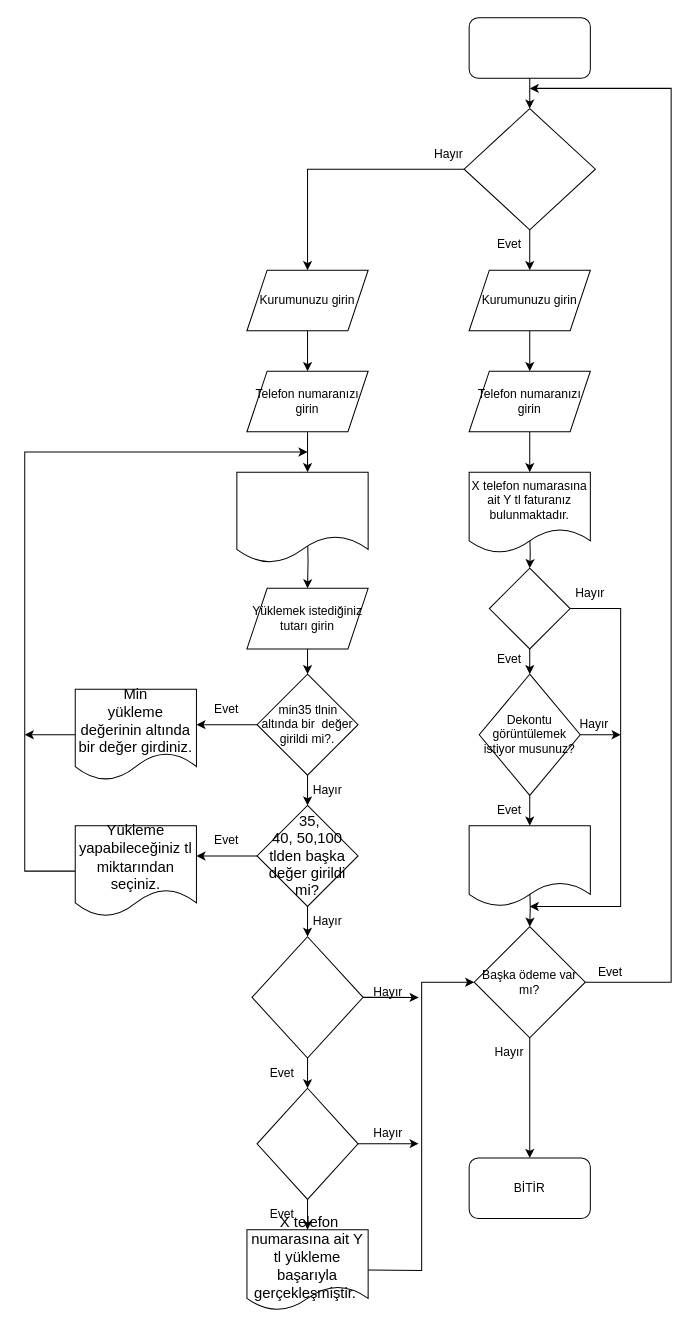
Some shapes in this 697 by 1328 pixel diagram are drawn without their labels. Each missing label, with the centre of its shape:
BAŞLA: point 529,47
E-faturanızı görüntülemek istiyor musunuz?: point 307,1143
X telefon nosuna ait Y tl yüklemeyi yapmak istiyor musunuz?: point 307,997
X telefon numarasına ait Y tl tutarındaki ödemeniz gerçekleşmiştir.: point 529,865
Yükleyebileceğiniz tutar şunlardır: 35tl, 40tl, 50tl,100tl.: point 302,517
Ödeme gerçekleştirilsin mi?: point 529,608
Ödeme şekli faturalı mı?: point 529,169
